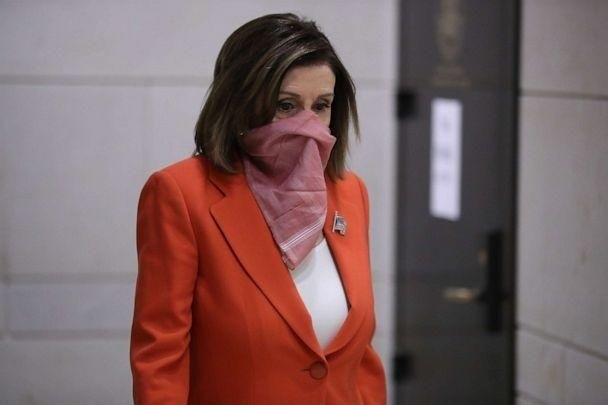face_with_mask: (227, 21, 340, 180)
